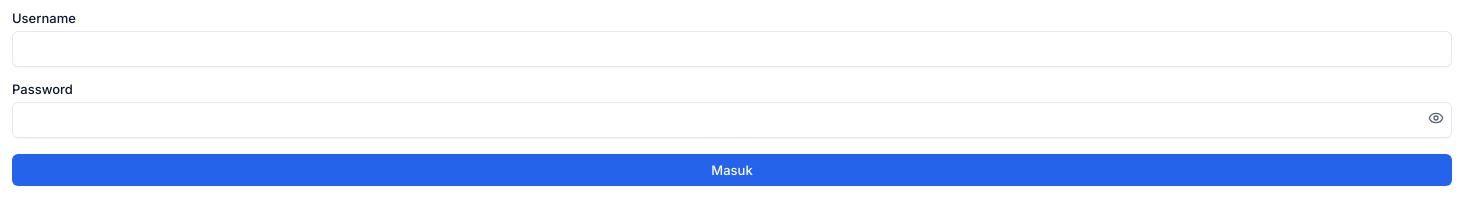
Test: LoginForm › two-step verification (Step 23a) › shows an inline error for a wrong code and keeps the step
Type "budi" into the field labelled "Username". click: (732, 49)
box: [12, 31, 1452, 67]
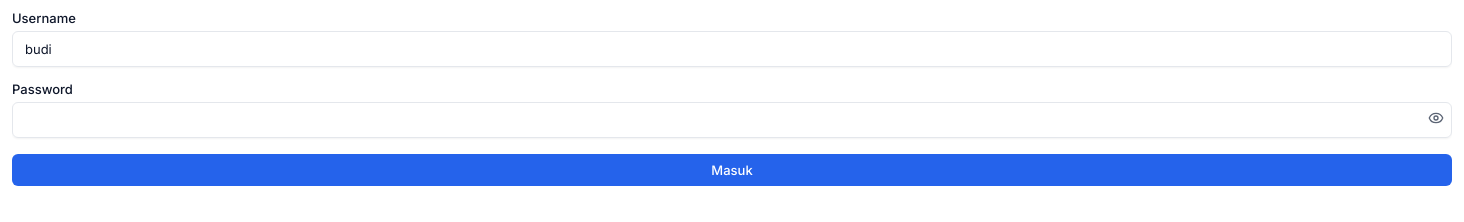
Type "pw" into the password field labelled "Password". click: (732, 120)
box: [12, 102, 1452, 138]
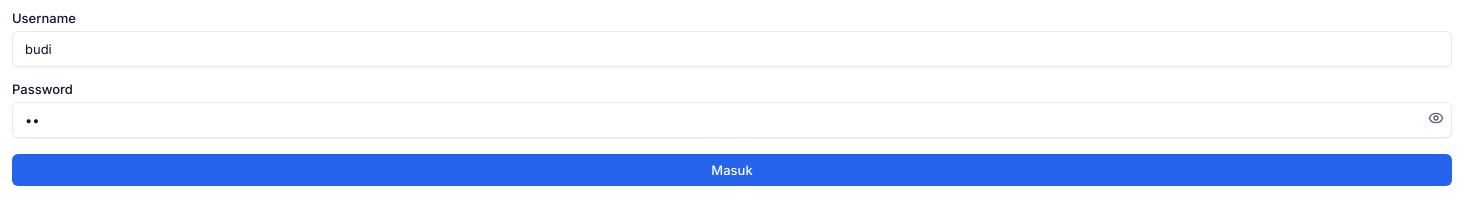
Click the button "Masuk". click: (732, 170)
box: [12, 154, 1452, 186]
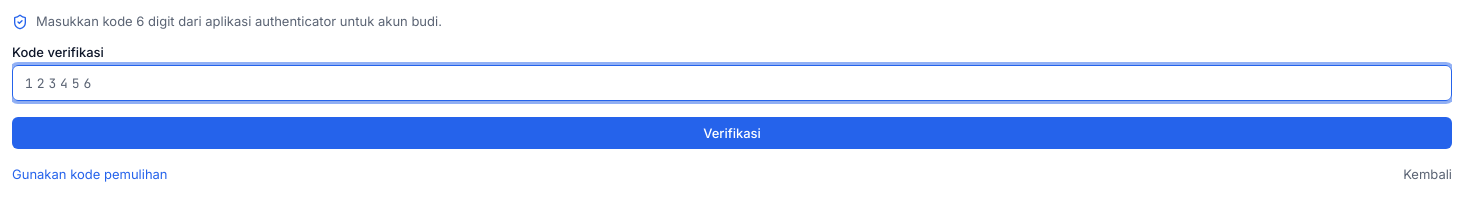
Type "000000" into the field labelled "Kode verifikasi". click: (732, 83)
box: [12, 65, 1452, 101]
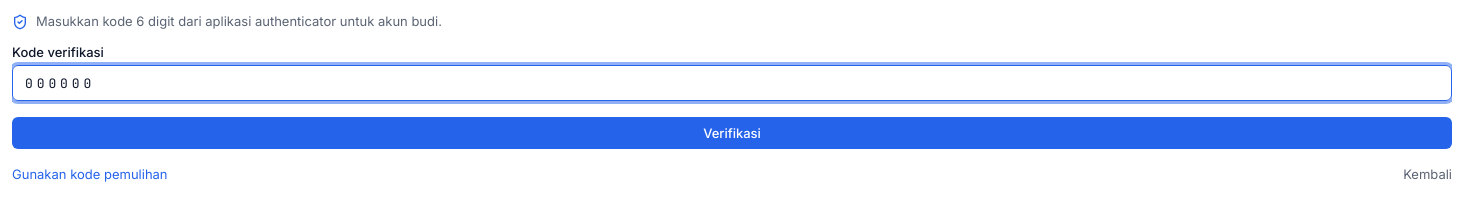
Click the button "Verifikasi". click: (732, 133)
box: [12, 117, 1452, 149]
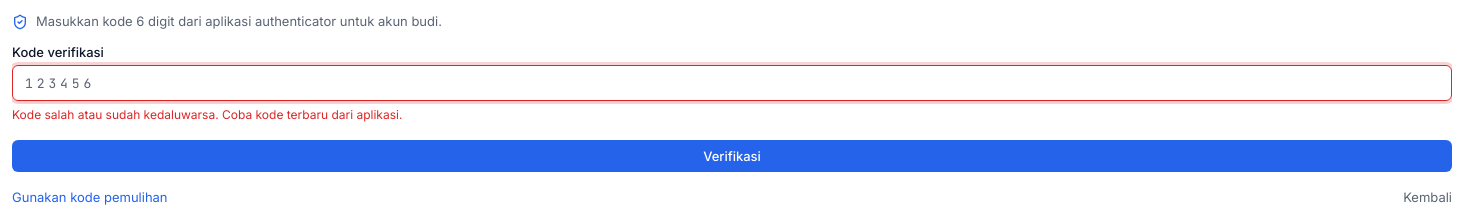
Expected: the message shows "Kode salah", [12, 107, 402, 122]
Expected: the field labelled "Kode verifikasi" is empty, [12, 65, 1452, 101]
